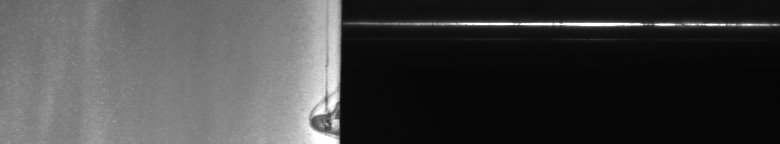hb: (302, 56, 328, 136)
